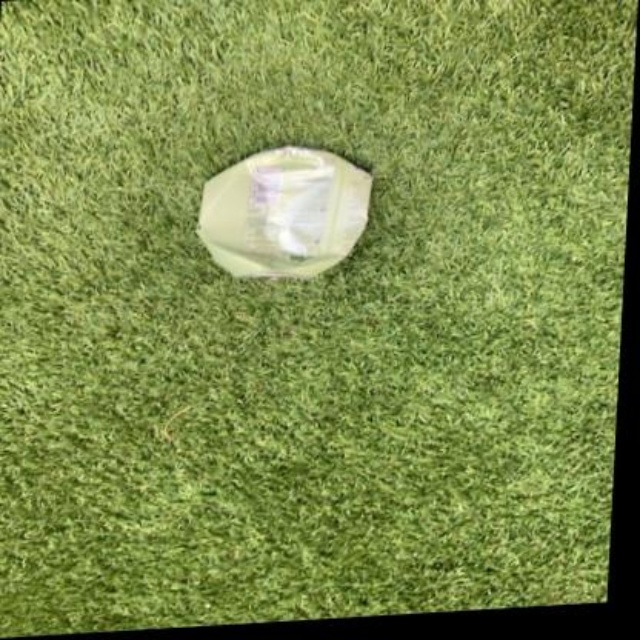trash: (197, 148, 371, 277)
